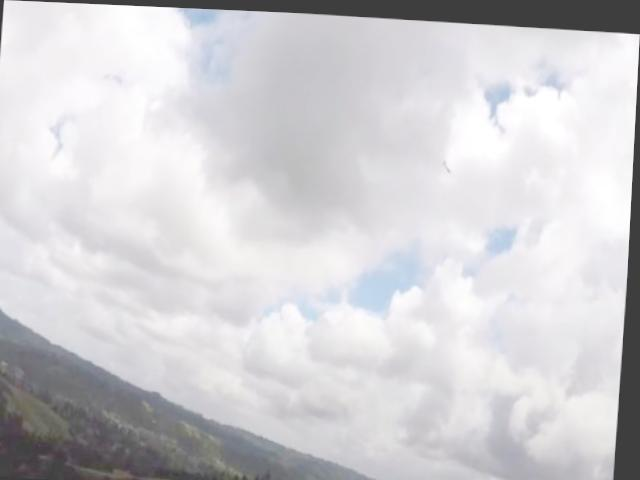iha: (442, 153, 454, 173)
